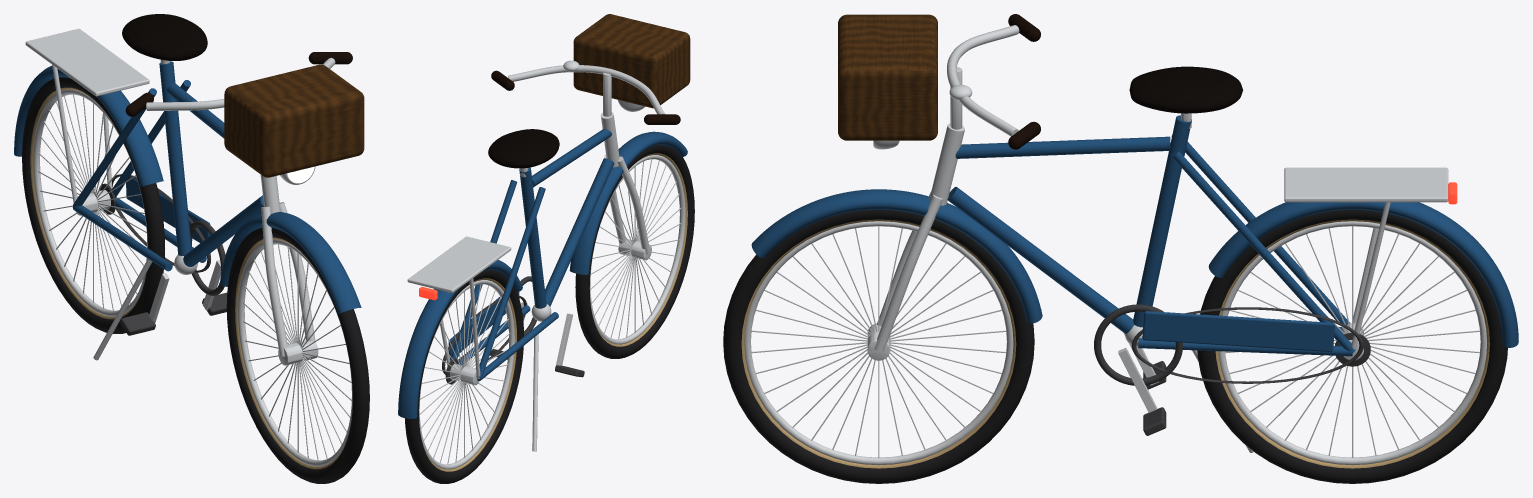
The model's file is bicycle.glb.
The picture shows the model from 3 angles, left to right: view 1: azimuth 30°, elevation 25°; view 2: azimuth 150°, elevation 25°; view 3: azimuth 270°, elevation 25°; orthographic projection. The views are drawn at different scales.
Visible parts, largest first — view 1: basket, tire (×2), rim (×2), rack, front fender, rear fender, seat, seat tube, fork (×2), wall (×2), seat stay (×2), chain stay (×2) (+13 smaller); view 2: basket, tire (×2), rim (×2), rear fender, rack, front fender, seat stay (×2), seat, down tube, seat tube, wall (×2), bars (+12 smaller); view 3: tire (×2), basket, rim (×2), front fender, rear fender, rack, chainguard, wall (×2), seat, seat stay (×2), down tube, seat tube (+8 smaller).
Boxes of the visible parts, x1,y1,x2,y2 form: basket: (224,64,364,177); tire (×2): (22,77,369,483); rim (×2): (33,89,352,466); rack: (25,28,149,96); front fender: (220,212,361,314); rear fender: (14,65,163,186); seat: (122,14,207,60); seat tube: (159,61,191,255); fork (×2): (261,202,315,356); wall (×2): (30,87,344,469); seat stay (×2): (73,80,190,206); chain stay (×2): (72,197,206,271); basket: (573,14,690,108); tire (×2): (405,145,694,483); rim (×2): (419,155,685,469); rear fender: (398,260,522,418); rack: (407,236,511,292); front fender: (569,131,687,274); seat stay (×2): (450,180,545,378); seat: (488,129,559,168); down tube: (545,158,614,306); seat tube: (519,167,546,308); wall (×2): (426,153,687,471); bars: (508,65,664,114); tire (×2): (723,209,1507,483); basket: (838,14,937,140); rim (×2): (744,221,1486,465); front fender: (751,189,1042,323); rear fender: (1208,202,1518,347); rack: (1284,167,1448,202); chainguard: (1142,311,1334,351); wall (×2): (741,219,1489,468); seat: (1129,66,1242,113); seat stay (×2): (1171,135,1355,352); down tube: (947,187,1133,333); seat tube: (1133,115,1191,327).
Size of the model in its own units: 0.6613 by 1.07 by 1.75.
10 materials, 3 textured.
